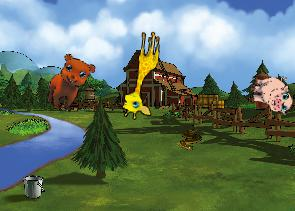bear: (44, 51, 97, 117)
giraffe: (120, 28, 161, 121)
pig: (248, 73, 294, 115)
